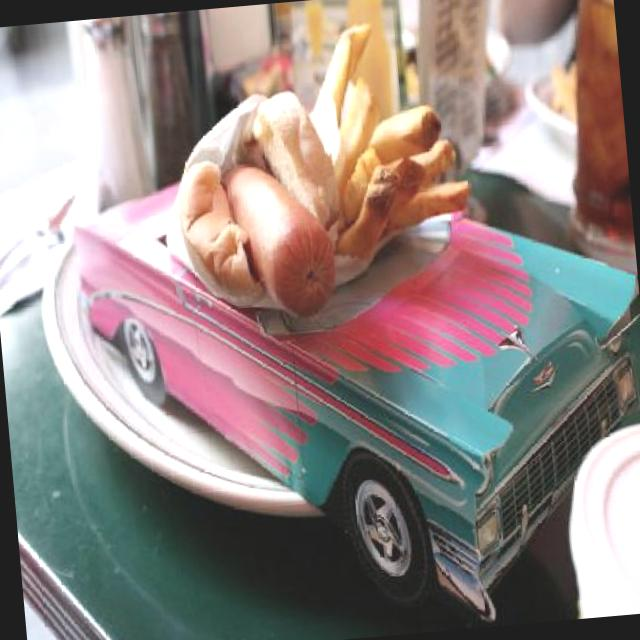Person: (497, 0, 582, 43)
